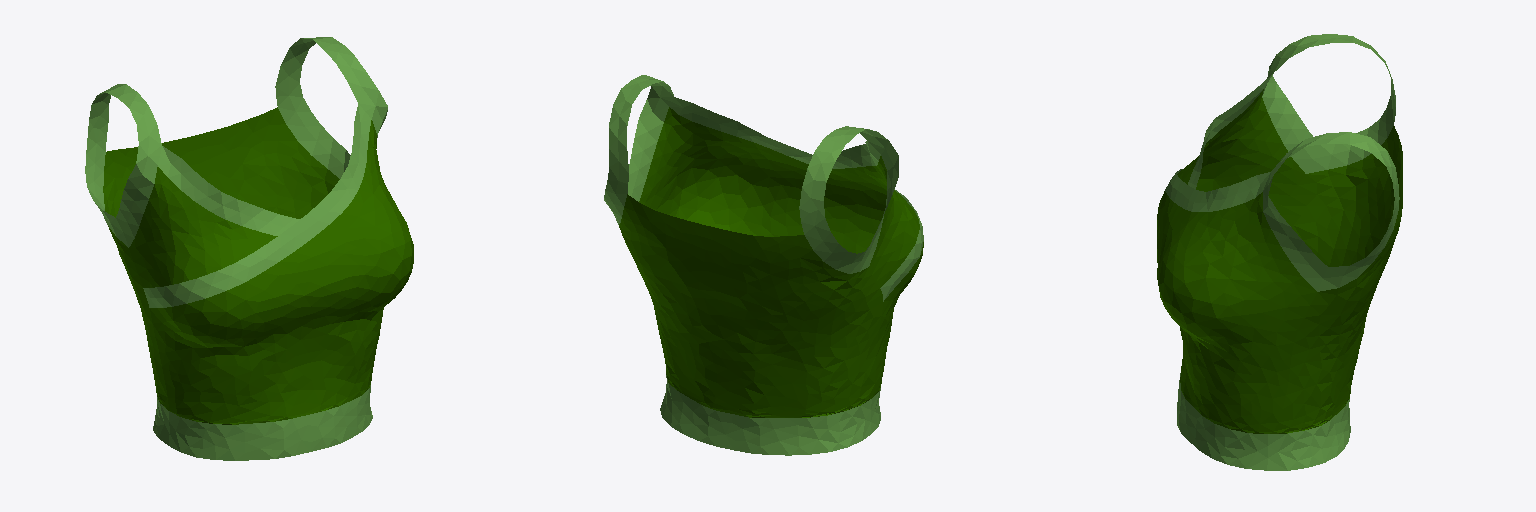
Rendered from top2_green.obj.
The picture shows the model from 3 angles: view 1: azimuth 30°, elevation 25°; view 2: azimuth 150°, elevation 25°; view 3: azimuth 270°, elevation 25°; orthographic projection.
Visible parts, largest first — view 1: Cloth_Shape.002; view 2: Cloth_Shape.002; view 3: Cloth_Shape.002.
Boxes of the visible parts, x1,y1,x2,y2 form: Cloth_Shape.002: [85, 37, 413, 460]; Cloth_Shape.002: [604, 75, 923, 455]; Cloth_Shape.002: [1157, 34, 1402, 470].
Bounding box in the file's own units: 0.1956 × 0.2437 × 0.1614.